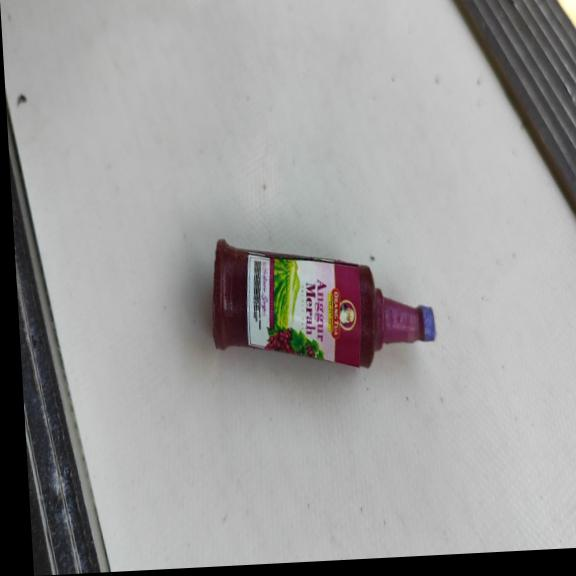Plastik: (206, 228, 439, 378)
